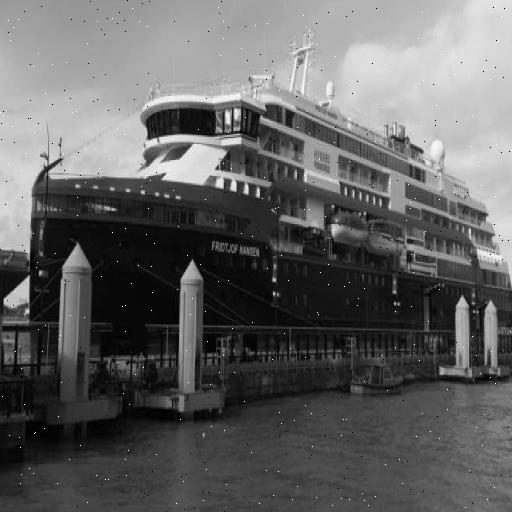cruises: (15, 14, 512, 339)
